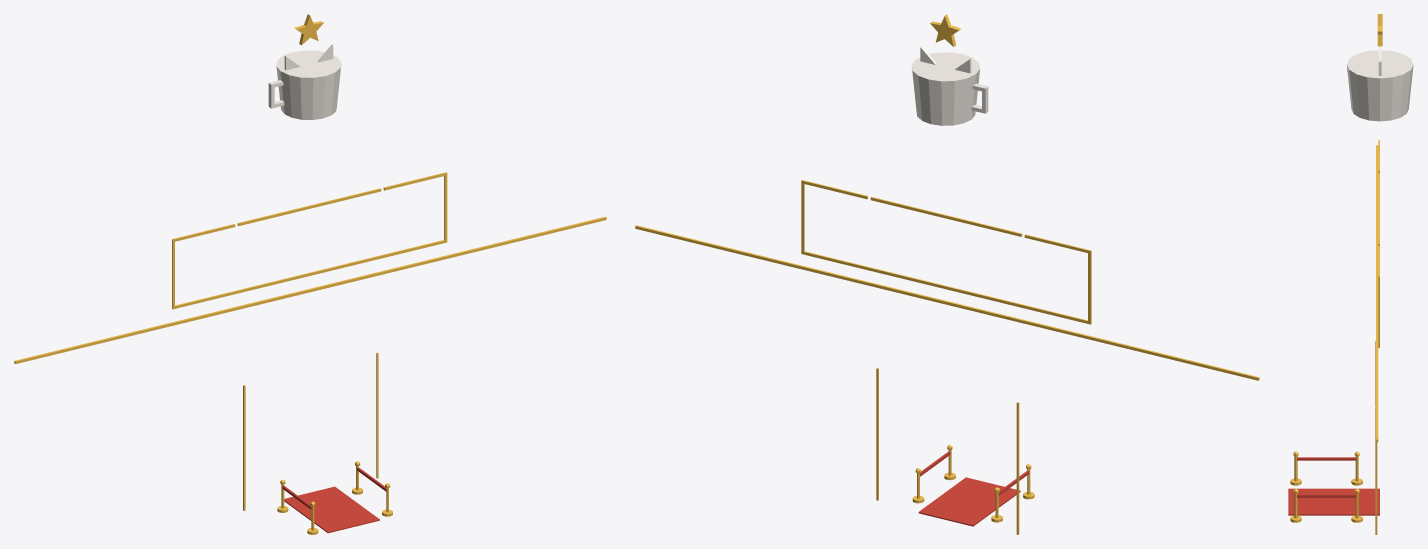
Rendered from CatCafe_Plot_Tier5.glb.
3 views of the same model, side by side, from view 1: azimuth 30°, elevation 25°; view 2: azimuth 150°, elevation 25°; view 3: azimuth 270°, elevation 25° (orthographic). The views are drawn at different scales.
Visible parts, largest first — view 1: CatCafe_Plot_Tier5; view 2: CatCafe_Plot_Tier5; view 3: CatCafe_Plot_Tier5.
Part boxes in pixels (x1,y1,x2,y2): CatCafe_Plot_Tier5: [14, 14, 606, 534]; CatCafe_Plot_Tier5: [635, 14, 1259, 534]; CatCafe_Plot_Tier5: [1288, 14, 1413, 534].
Bounding box in the file's own units: 36.4 × 28.19 × 6.55.
1 material, 1 textured.
